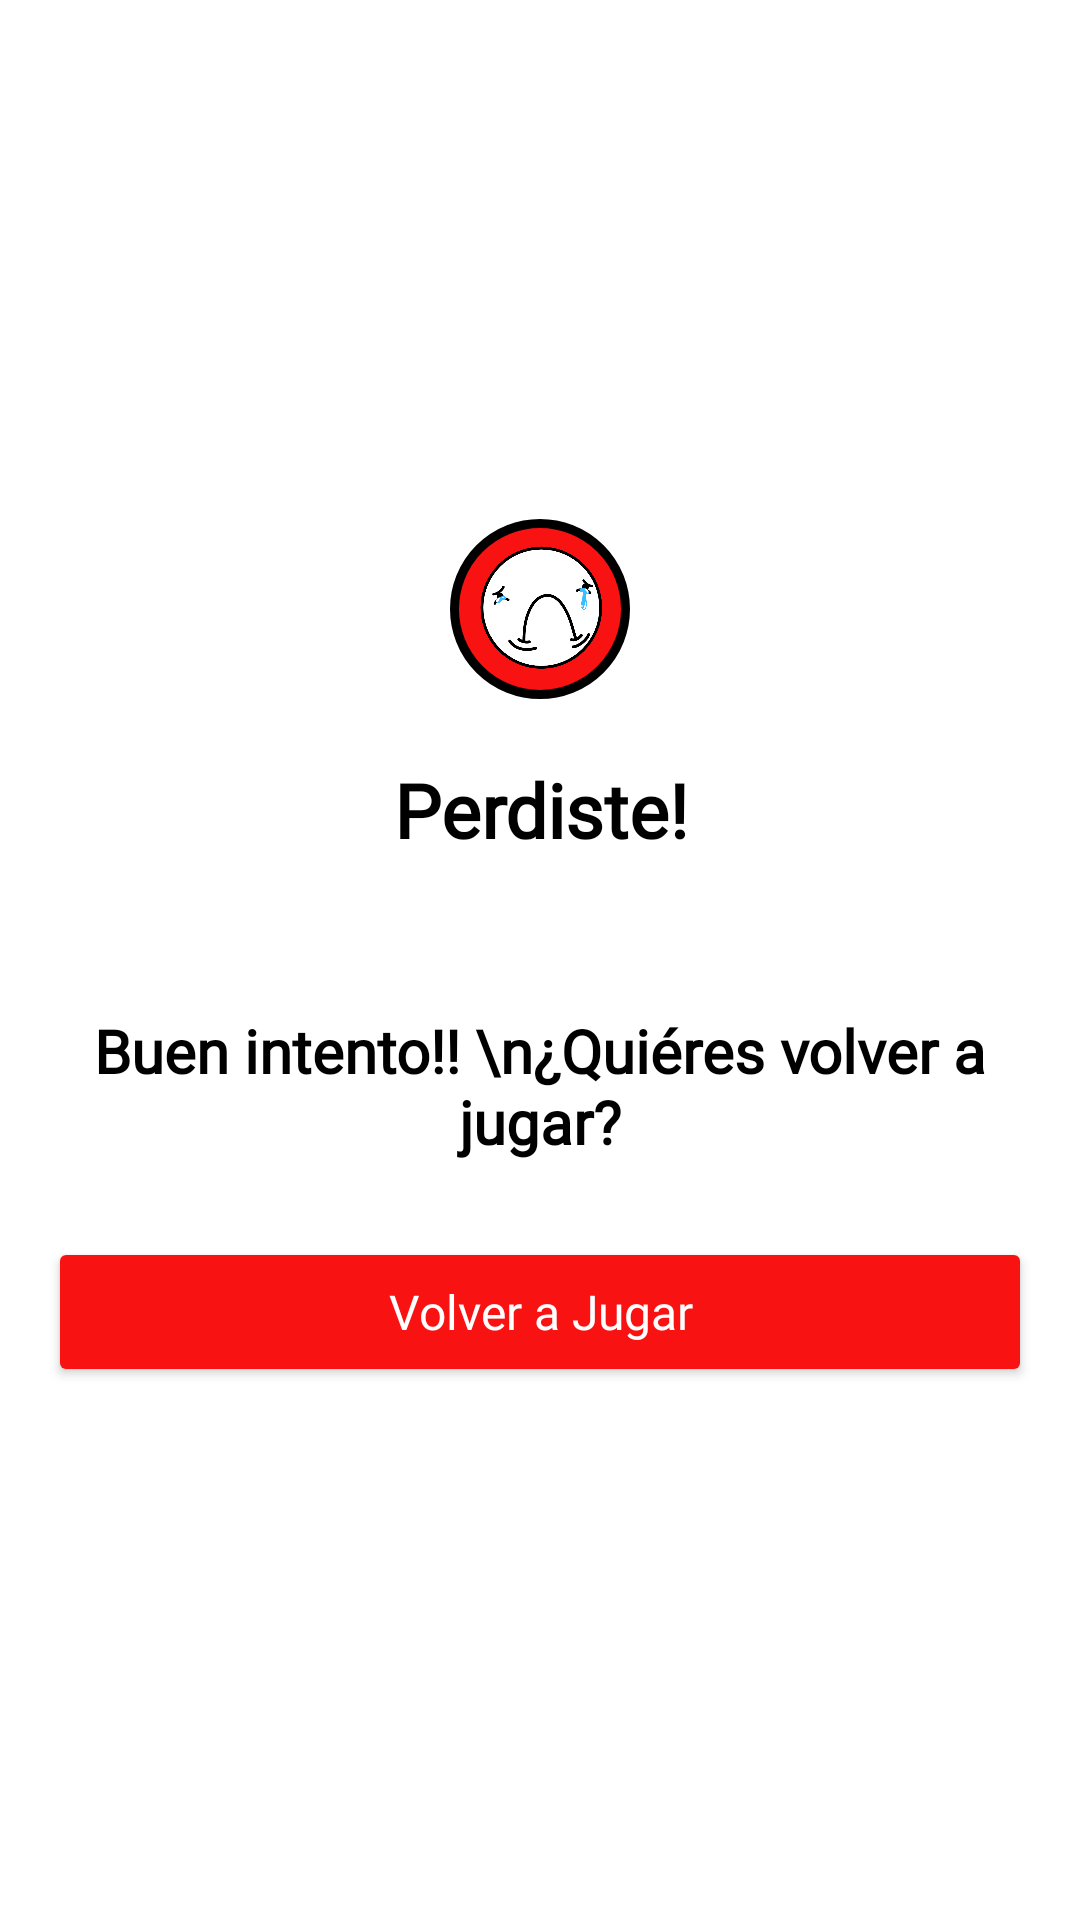

Where to tap for icons on this 1080px×1920px app screen, as [x,y]:
hangman face sad: [540,609]
